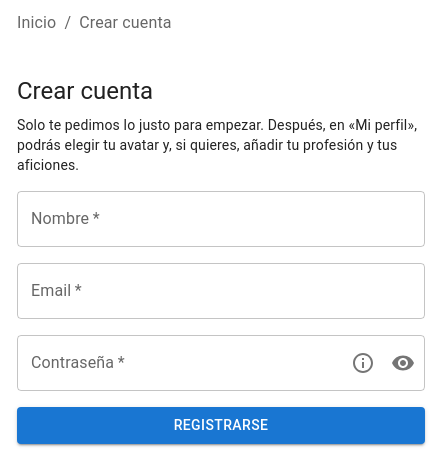
Test case: RegisterForm (RF-01) › si la cuenta se crea pero la sesión no, confirma y ofrece iniciar sesión a mano
Type "Ana" into the field labelled "Nombre *".
click(221, 220); type("Ana")  # box [17, 192, 425, 248]
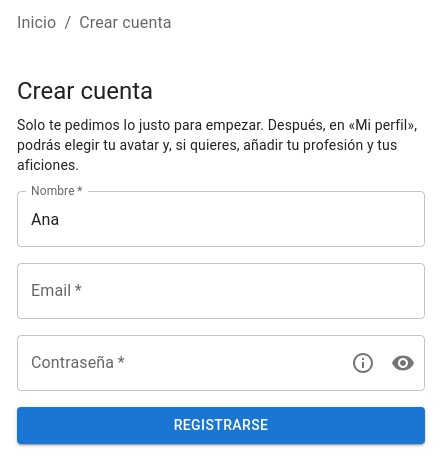
Type "ana@ejemplo.com" into the field labelled "Email *".
click(221, 292); type("ana@ejemplo.com")  # box [17, 264, 425, 320]
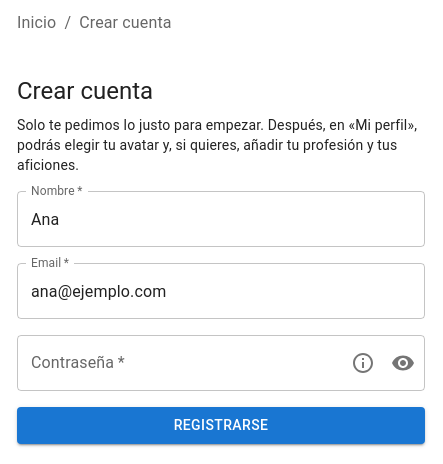
Type "Bici-Azul-Lluvia-47" into the password field labelled "Contraseña *".
click(176, 364); type("Bici-Azul-Lluvia-47")  # box [17, 336, 335, 392]
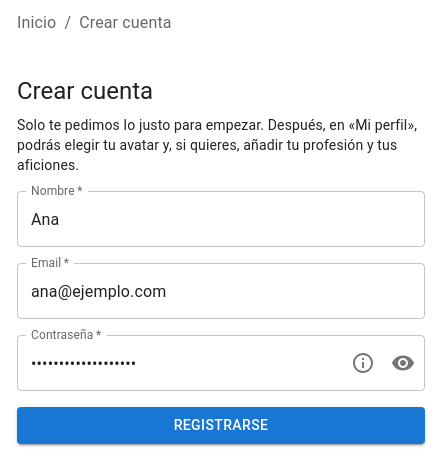
Click the button "Registrarse".
click(221, 426)  # box [17, 408, 425, 444]
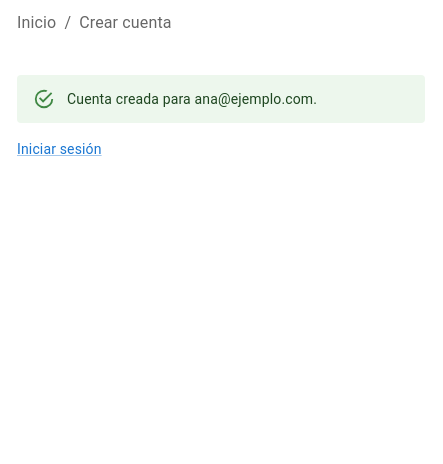
Result: the text "Cuenta creada para ana@ejemplo.com." is shown at [67, 91, 317, 107]
